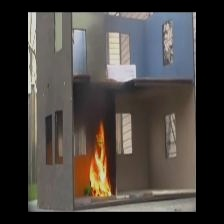fire: (84, 118, 111, 196)
